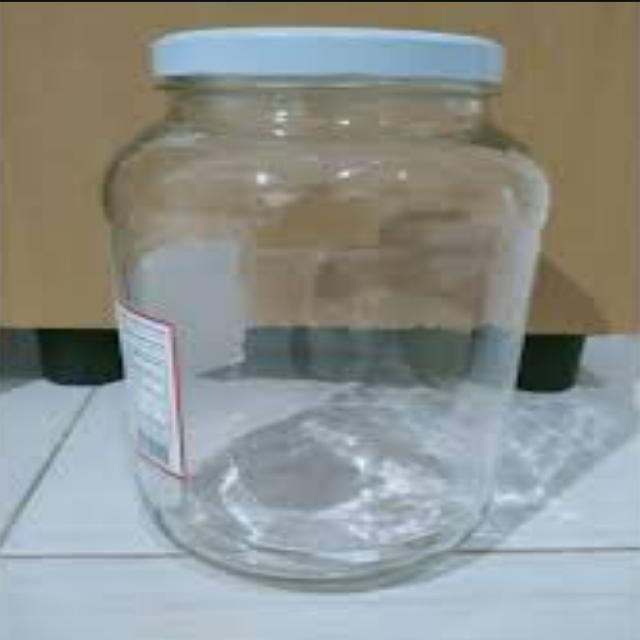ToplesKaca: (100, 24, 557, 585)
